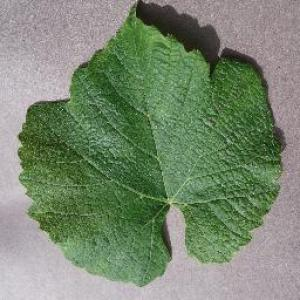Folha: (16, 0, 284, 287)
